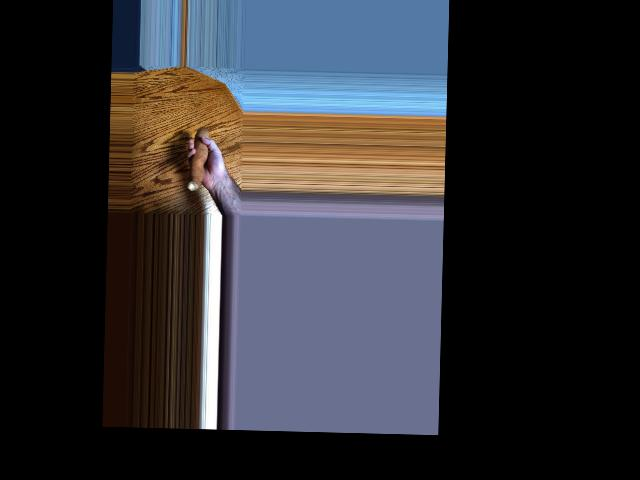sweet_potato: (189, 122, 212, 193)
